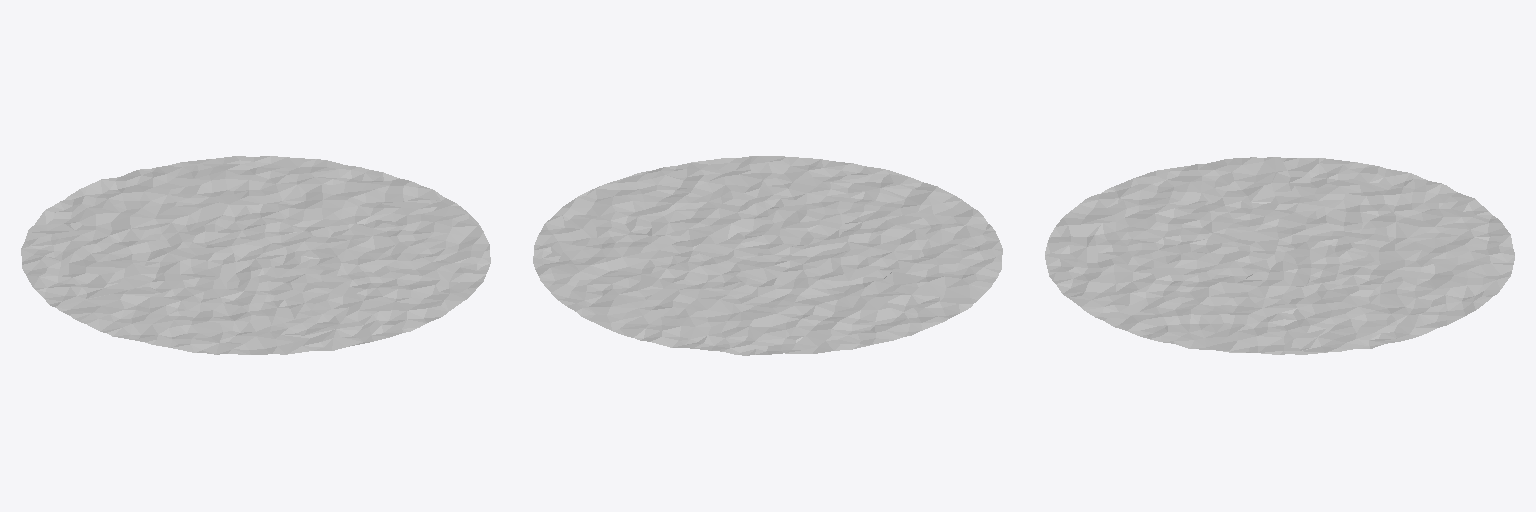
The model's file is water.obj.
3 views of the same model, side by side, from view 1: azimuth 30°, elevation 25°; view 2: azimuth 150°, elevation 25°; view 3: azimuth 270°, elevation 25° (orthographic).
Visible parts, largest first — view 1: Plane; view 2: Plane; view 3: Plane.
Part boxes in pixels (bbox=[...]): Plane: bbox=[21, 156, 490, 354]; Plane: bbox=[533, 156, 1002, 355]; Plane: bbox=[1045, 157, 1514, 354].
Size of the model in its own units: 104 by 0.9933 by 104.